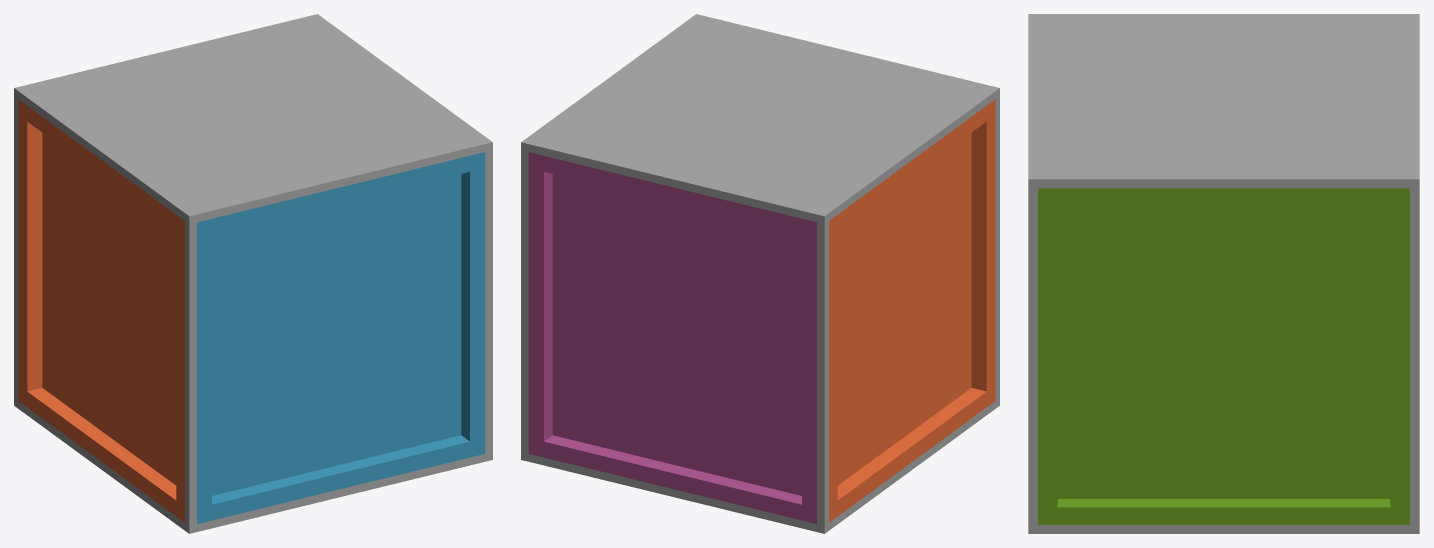
The model's file is crate.vox.obj.
3 views of the same model, side by side, from view 1: azimuth 30°, elevation 25°; view 2: azimuth 150°, elevation 25°; view 3: azimuth 270°, elevation 25° (orthographic). The views are drawn at different scales.
Size of the model in its own units: 4 by 4 by 4.
Materials: 1 (1 with a texture image).
